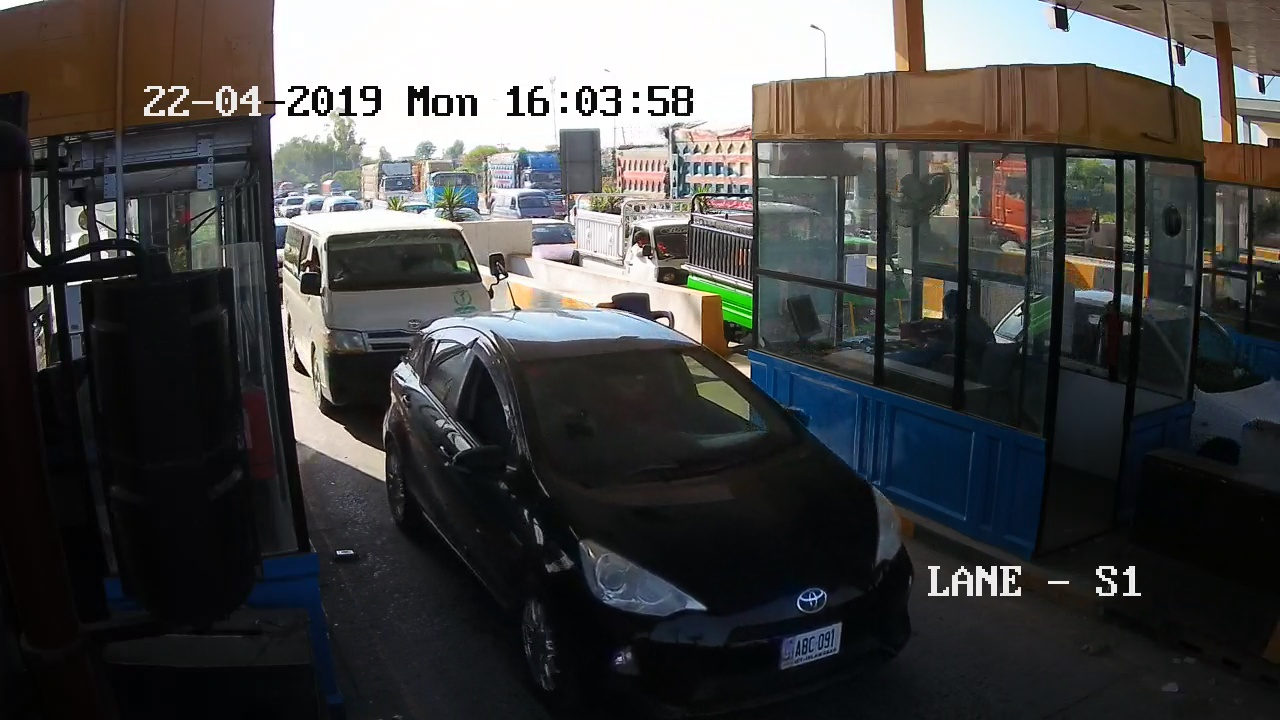Number Plate (Car): (773, 626, 847, 667)
